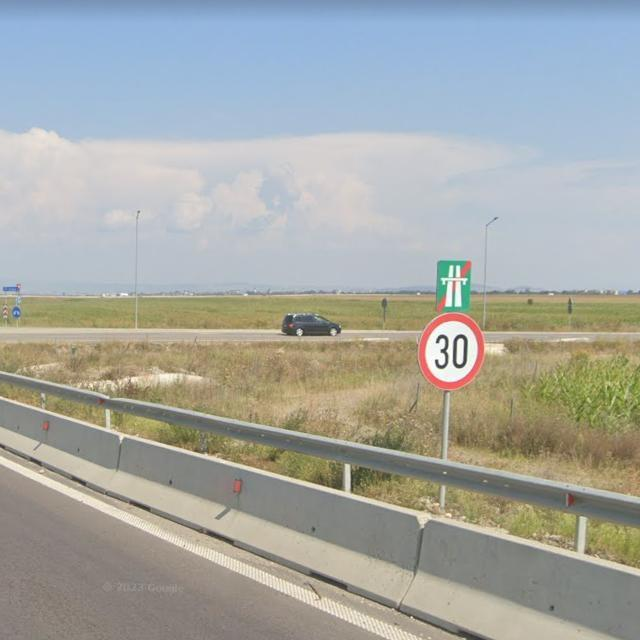forb_speed_over_30: (417, 309, 487, 391)
